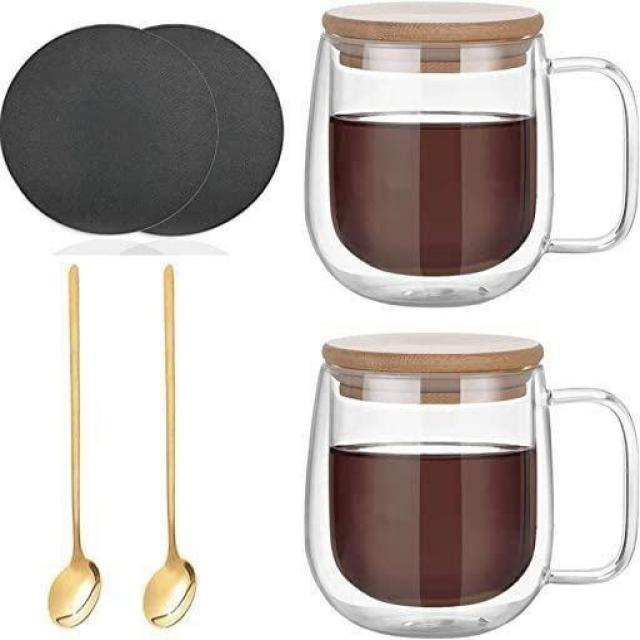glass-mug: (296, 324, 640, 640), (295, 0, 640, 309)
